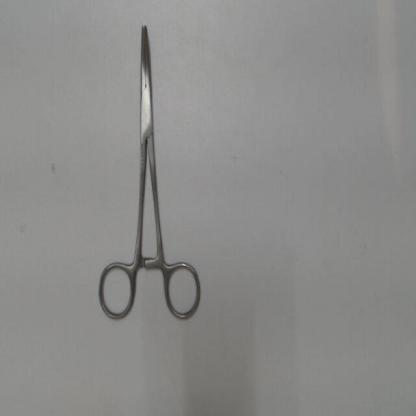Crile Artery Forceps: (92, 20, 206, 326)
